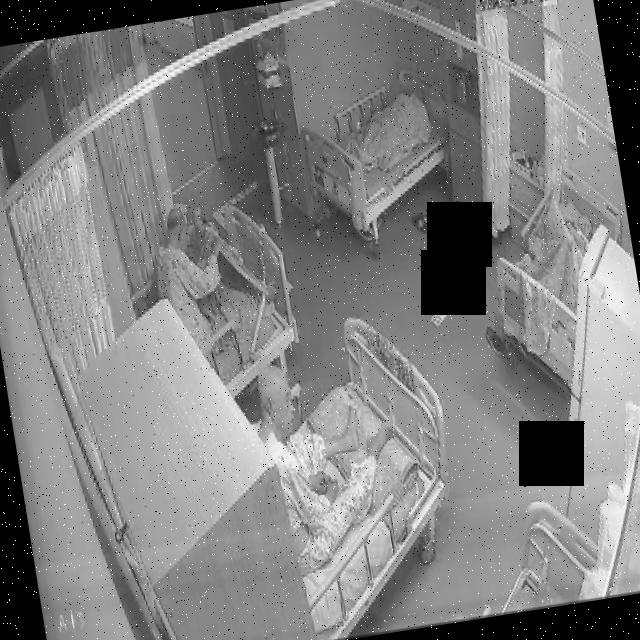bed: (234, 310, 476, 640), (473, 162, 640, 396), (145, 206, 304, 408), (298, 61, 463, 239)
patient: (248, 355, 412, 579), (143, 191, 284, 365)
sit: (247, 352, 413, 578), (144, 191, 286, 362)
